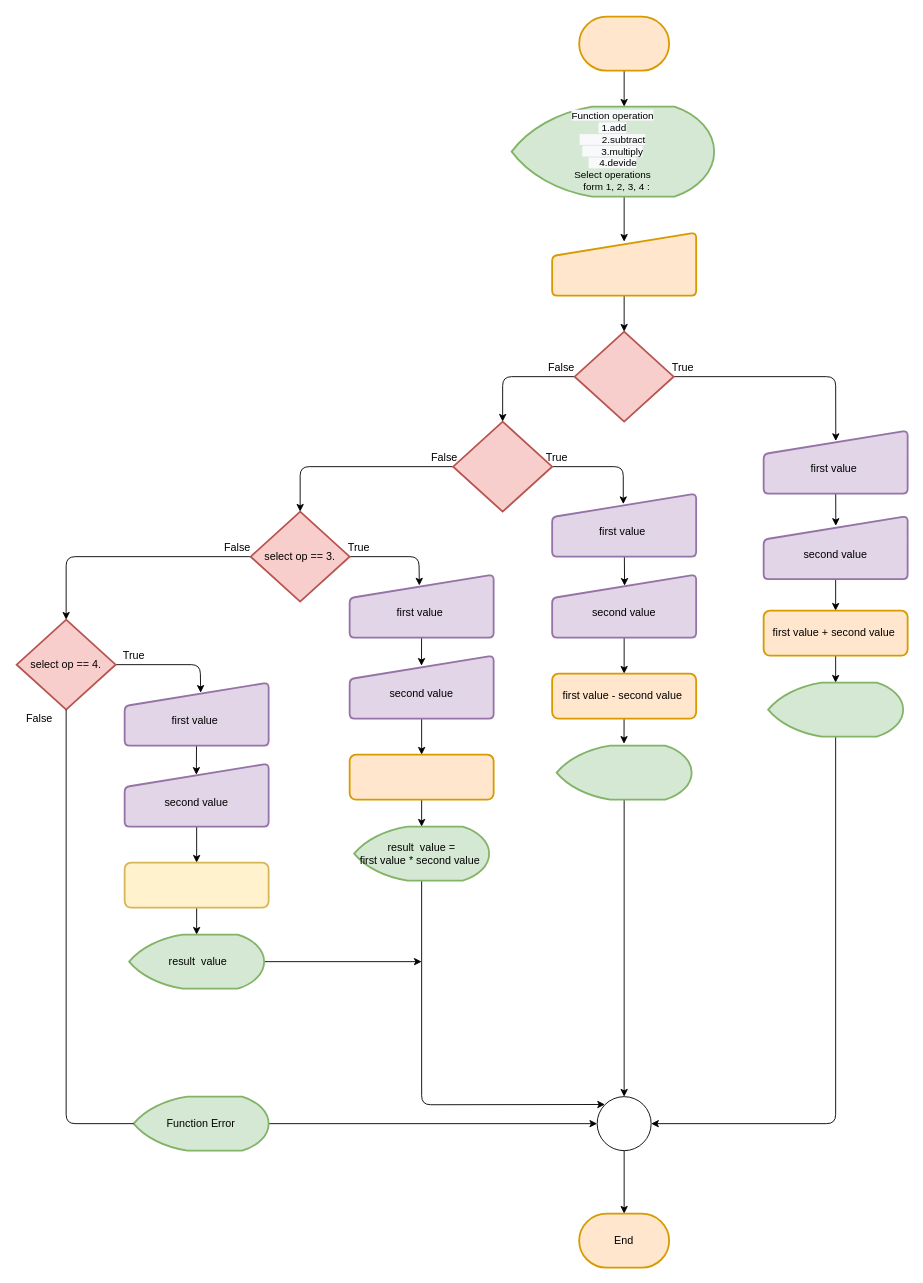
The diagram is 923 pixels wide and 1283 high, and some of its shapes have lost their labels. The box of each missing label's shape, as (x1, y1, x2, y2) in pixels:
first value * second value: (348, 753, 494, 800)
first value / second value: (123, 861, 269, 908)
result value = first value + second value: (767, 681, 904, 737)
result value = first value - second value: (555, 744, 692, 800)
select op: (551, 231, 697, 296)
select op == 1.: (573, 330, 674, 422)
select op == 2.: (452, 420, 553, 512)
Start: (578, 15, 670, 71)
